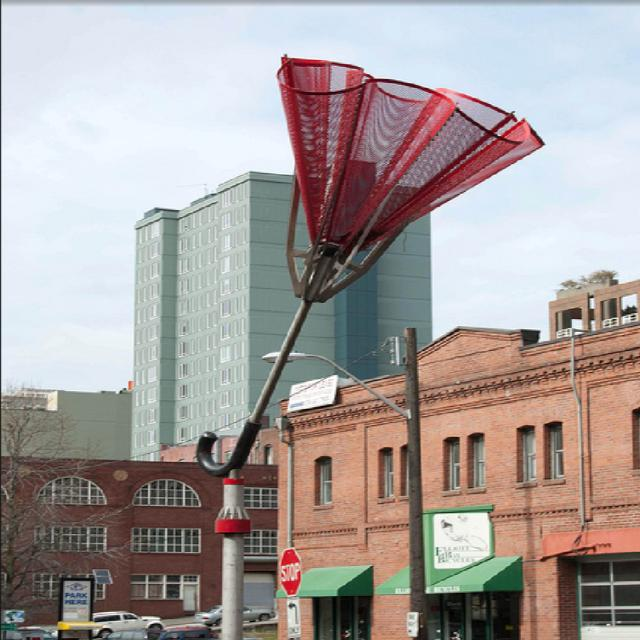STOP: (264, 537, 310, 611)
